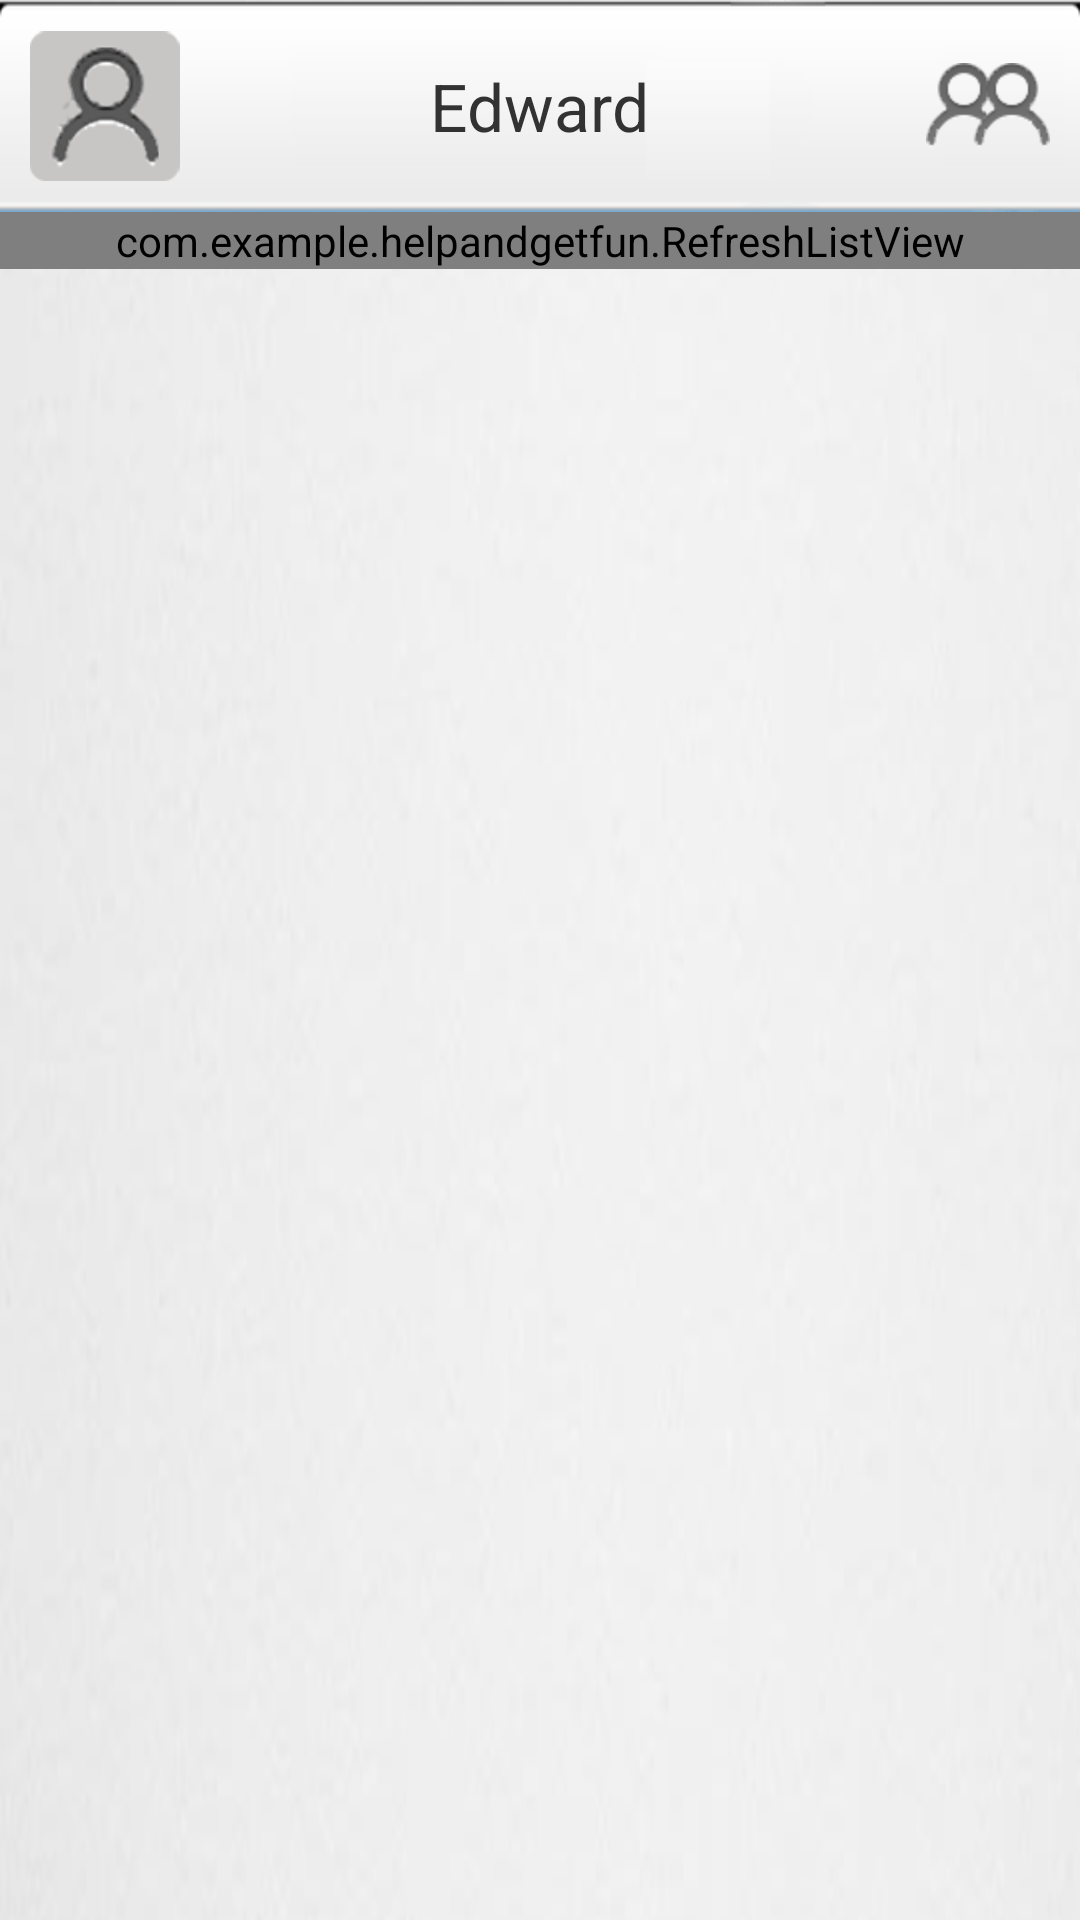

Where icons sit on this 1080px x 1920px app screen, as (x1, y1, x2, y2):
friendlist bnt effect: (926, 63, 1050, 146)
homepage headimg: (30, 31, 180, 181)
